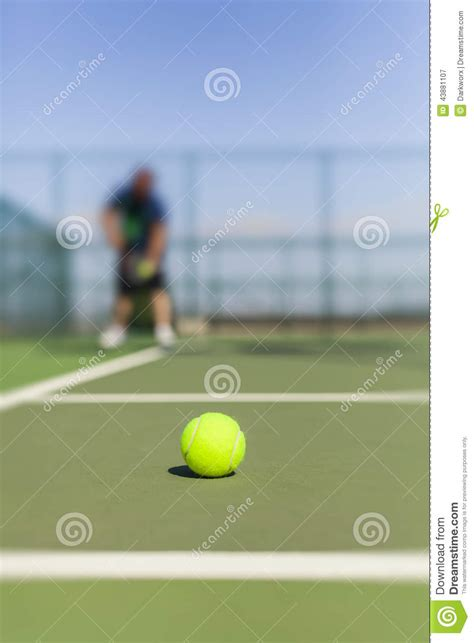tennis_ball: (180, 412, 246, 477)
